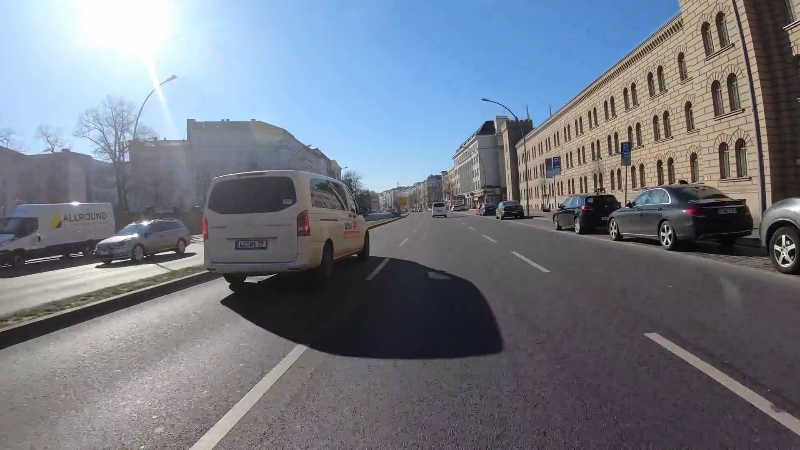Plate: (233, 237, 268, 250), (717, 206, 739, 216)
